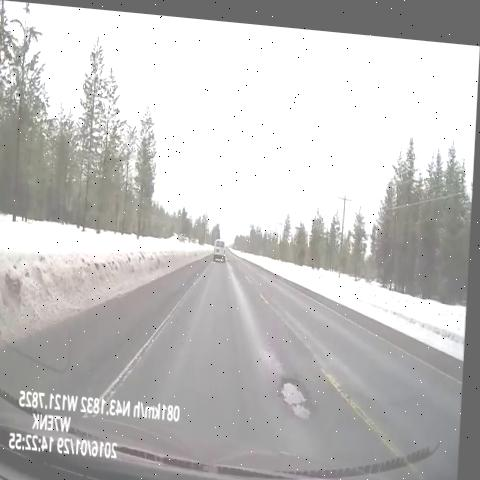pothole: (277, 357, 326, 427)
